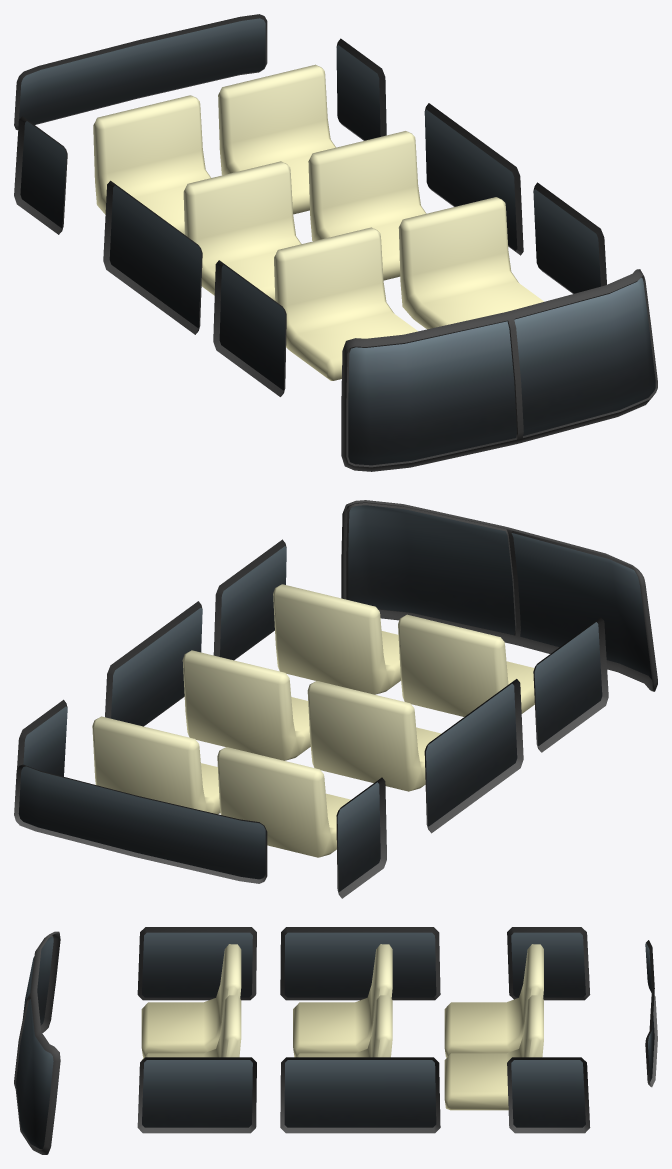
Rendered from van_open.fbx.
3 views of the same model, one above another, from view 1: azimuth 30°, elevation 25°; view 2: azimuth 150°, elevation 25°; view 3: azimuth 270°, elevation 25° (orthographic). The views are drawn at different scales.
Parts seen in each view (by area): view 1: van_open; view 2: van_open; view 3: van_open.
Boxes of the visible parts, x1=… form: van_open: x1=14, y1=14, x2=657, y2=471; van_open: x1=14, y1=500, x2=657, y2=898; van_open: x1=14, y1=927, x2=657, y2=1154.
Size of the model in its own units: 65.99 by 24.53 by 135.
